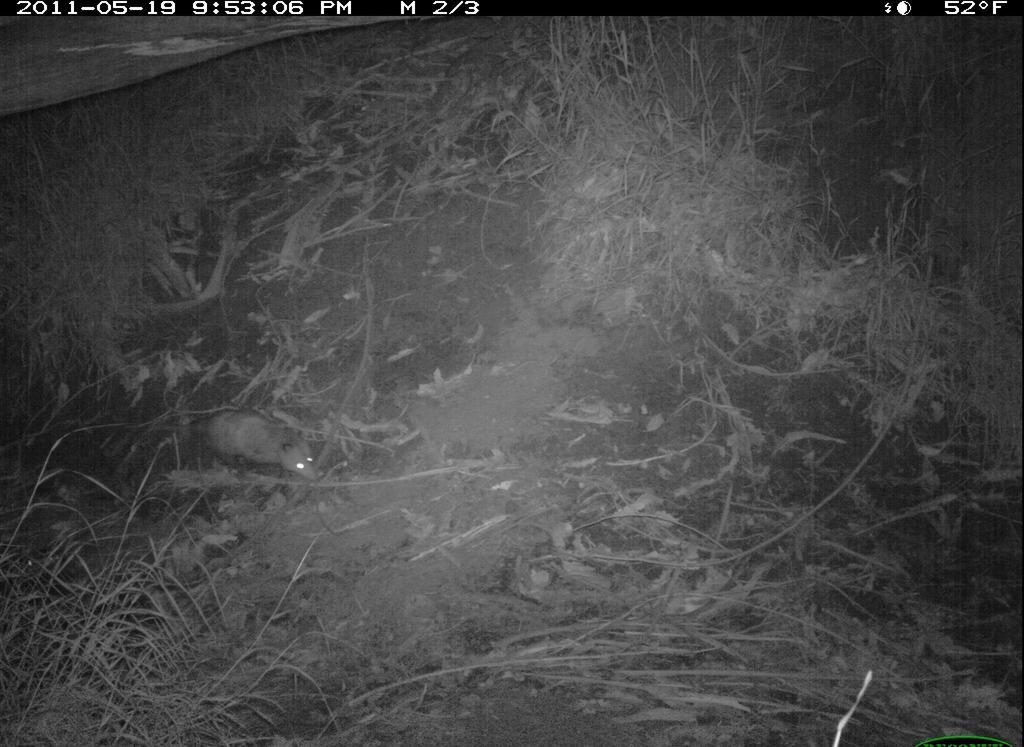opossum: (137, 401, 319, 489)
